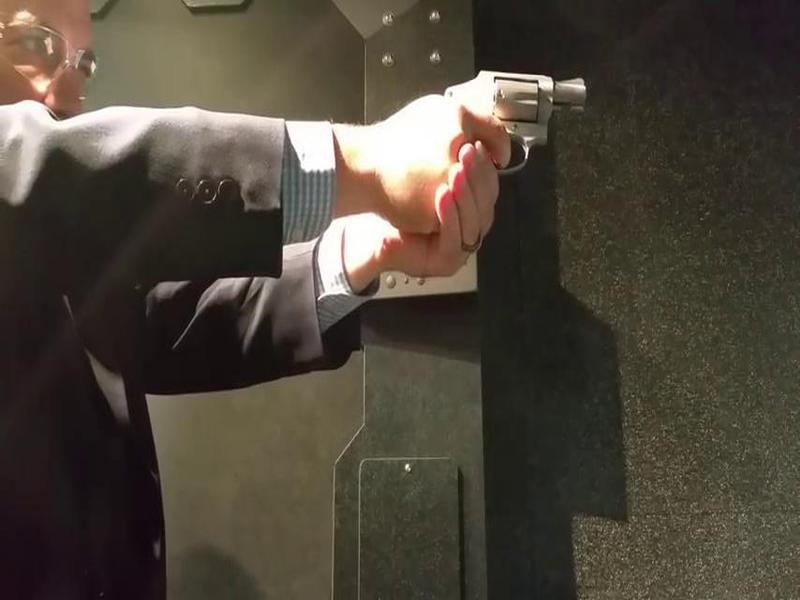Revolver: (437, 57, 597, 181)
